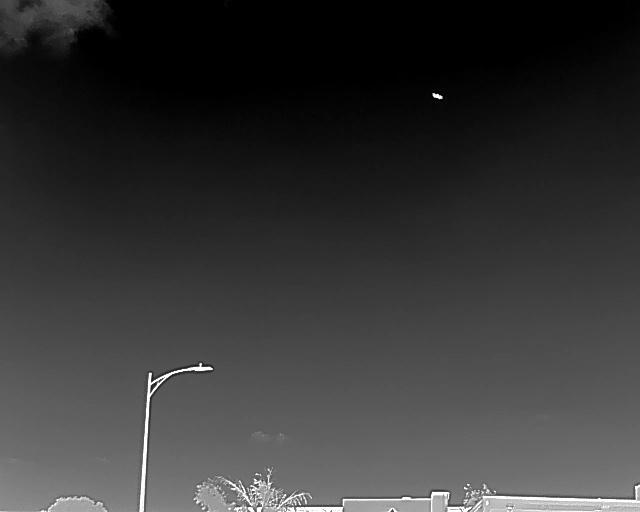fpv-drone: (431, 92, 443, 100)
